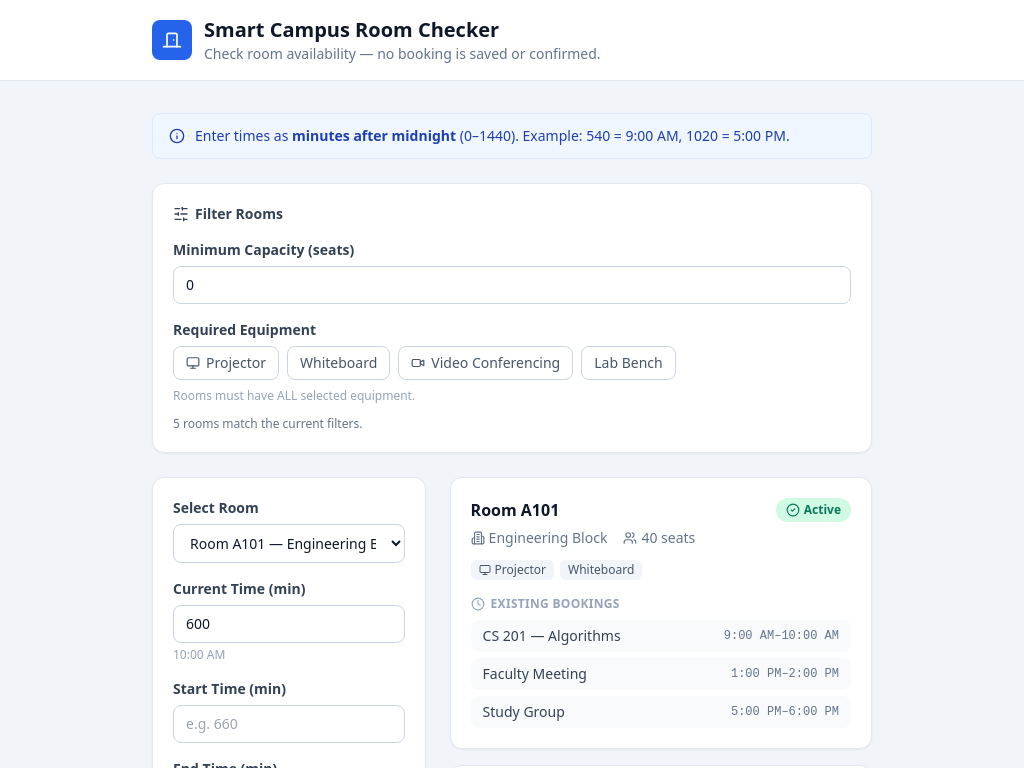
Test: App — Integration / UI behavior tests (F4, F5) › F5-RESET-CLEARS: Reset button clears time inputs and result
Type "700" into the number field labelled "Start Time (min)" at x=289, y=724, box [173,705,405,743]
(page scrolled)
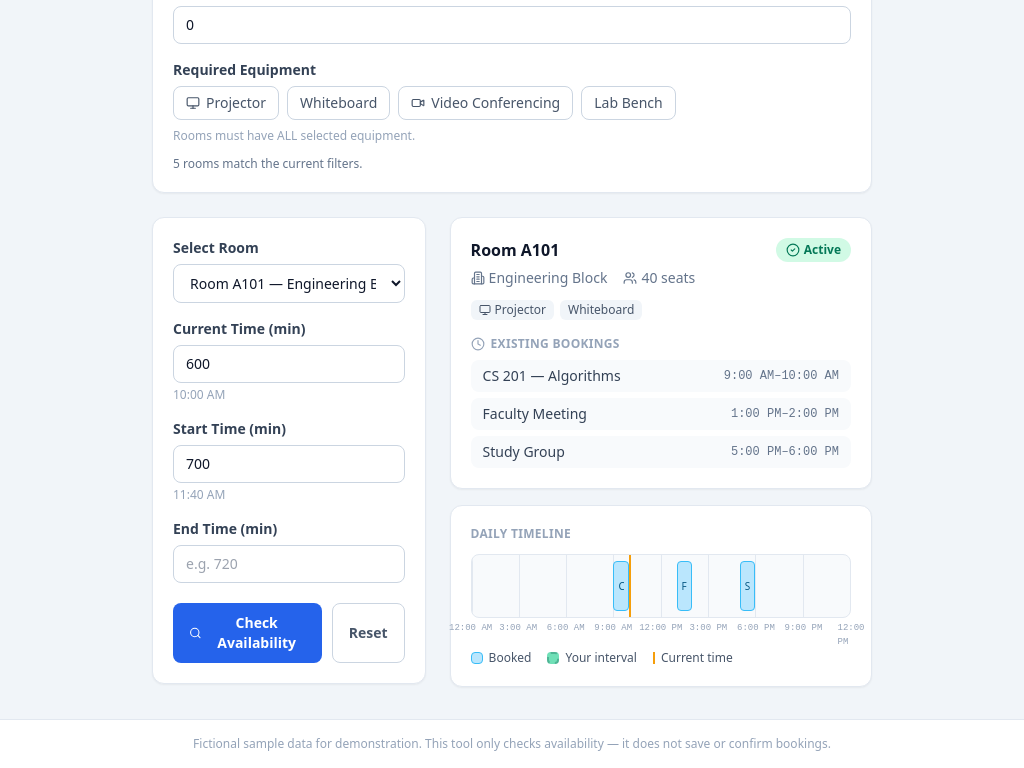
Type "760" into the number field labelled "End Time (min)" at x=289, y=564, box [173,545,405,583]
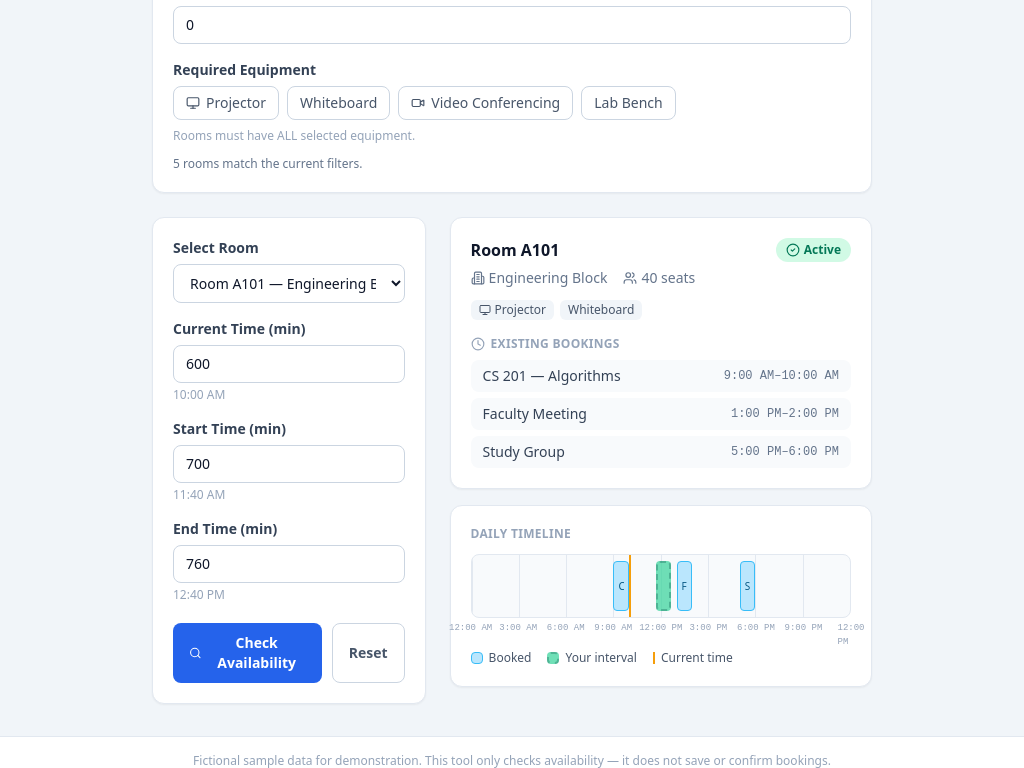
Click the button "Check Availability" at x=247, y=653, box [173,623,322,683]
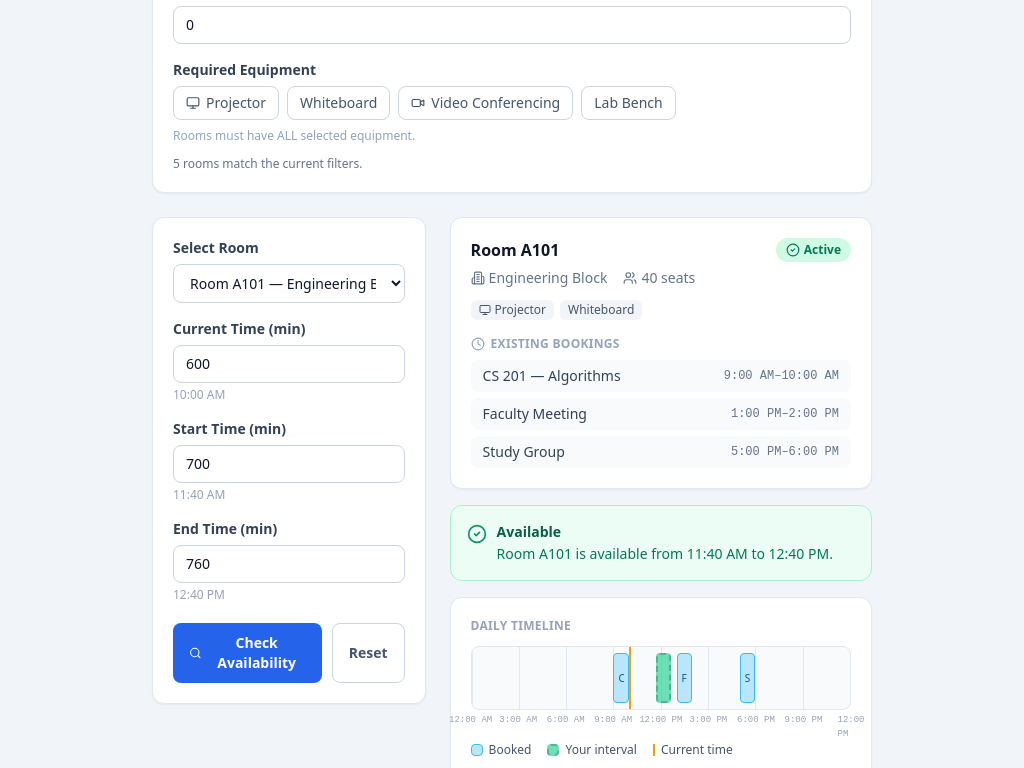
Now the text "Available" is shown, box [497,522,561,541]
Click the button "Reset" at x=368, y=653, box [332,623,405,683]
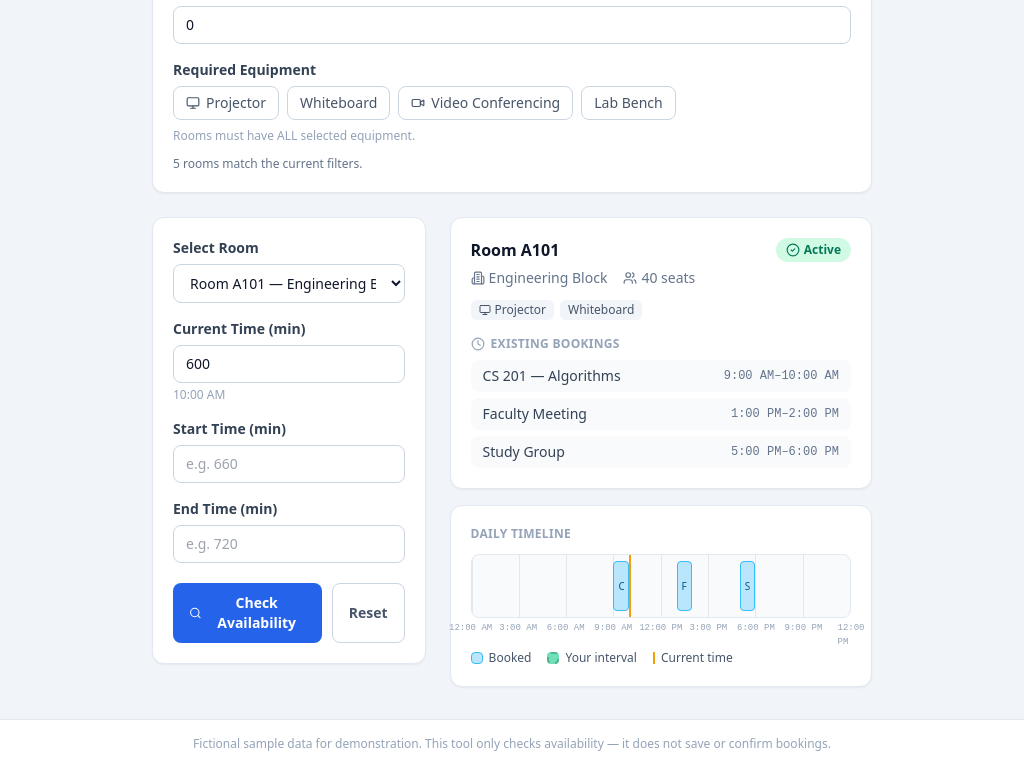
Now the number field labelled "Start Time (min)" is empty, box [173,445,405,483]
Now the number field labelled "End Time (min)" is empty, box [173,525,405,563]
Now the text "Available" is gone
